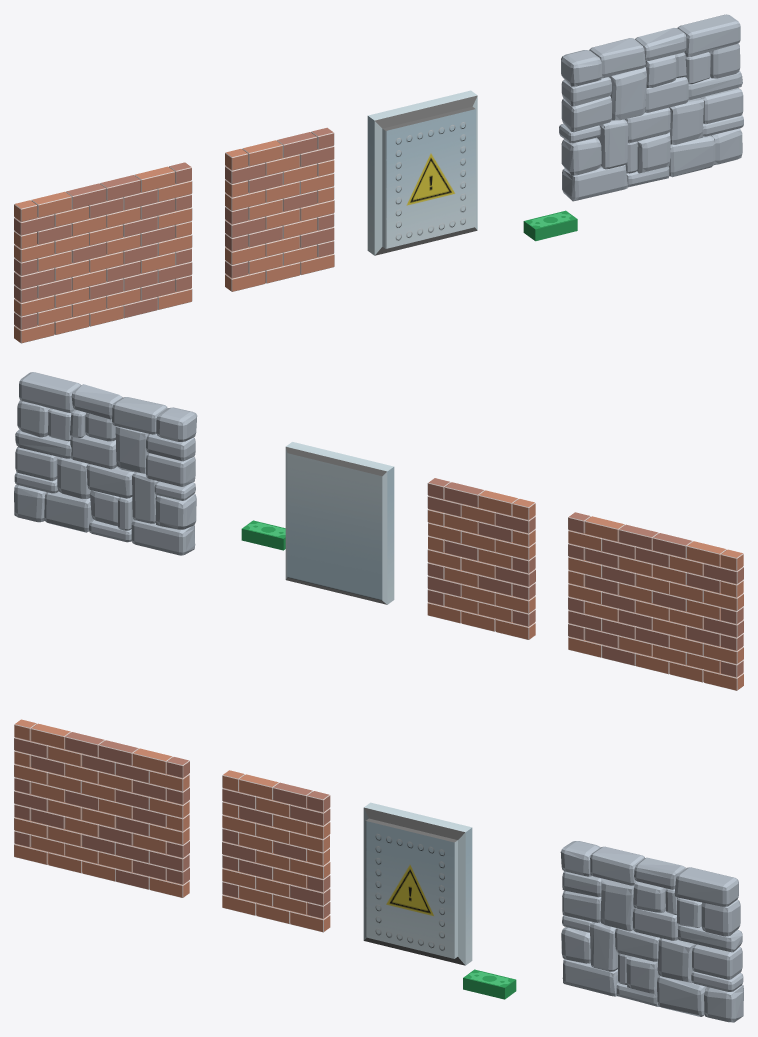
Rendered from WallsFBXFull1.fbx.
3 renders of one model, top to bottom at view 1: azimuth 30°, elevation 25°; view 2: azimuth 150°, elevation 25°; view 3: azimuth 330°, elevation 25°, orthographic.
Visible parts, largest first — view 1: MetalWall, Wall___Copy_pasted__pasted__pasted__pasted__pasted__pasted__ (×16), Wall___Copy11_pCube3, Wall___Copy1_pCube3, pasted__pasted__pCube1_3, Wall___Copy13_pCube3, Wall___Copy3_pCube3, pasted__pCube1_3, Wall___Copy19_pCube3, pasted__pCube1, Wall___Copy5_pCube3, pasted__pasted__pCube1_2 (+13 smaller); view 2: MetalWall, Wall___Copy_pasted__pasted__pasted__pasted__pasted__pasted__ (×16), Wall___Copy11_pCube3, Wall___Copy1_pCube3, Wall___Copy3_pCube3, Wall___Copy13_pCube3, Wall___Copy19_pCube3, pasted__pasted__pCube1_3, pasted__pCube1, Wall___Copy7_pCube3, Wall___Copy16_pCube3, pasted__pasted__pCube1_2 (+15 smaller); view 3: MetalWall, Wall___Copy_pasted__pasted__pasted__pasted__pasted__pasted__ (×16), Wall___Copy11_pCube3, pasted__pasted__pCube1_3, Wall___Copy3_pCube3, Wall___Copy13_pCube3, Wall___Copy10_pCube3, Wall___Copy1_pCube3, pasted__pCube1_3, pasted__pCube1_2, Wall___Copy5_pCube3, pasted__pasted__pCube1 (+14 smaller).
Part boxes in pixels (<box>): MetalWall: <box>367,90,477,255</box>; Wall___Copy_pasted__pasted__pasted__pasted__pasted__pasted__ (×16): <box>14,132,317,343</box>; Wall___Copy11_pCube3: <box>677,14,740,57</box>; Wall___Copy1_pCube3: <box>562,165,627,201</box>; pasted__pasted__pCube1_3: <box>609,67,646,120</box>; Wall___Copy13_pCube3: <box>589,38,645,78</box>; Wall___Copy3_pCube3: <box>669,135,715,177</box>; pasted__pCube1_3: <box>669,98,703,144</box>; Wall___Copy19_pCube3: <box>561,96,611,132</box>; pasted__pCube1: <box>561,137,601,175</box>; Wall___Copy5_pCube3: <box>597,119,628,169</box>; pasted__pasted__pCube1_2: <box>561,50,601,86</box>; MetalWall: <box>285,442,394,604</box>; Wall___Copy_pasted__pasted__pasted__pasted__pasted__pasted__ (×16): <box>444,482,743,690</box>; Wall___Copy11_pCube3: <box>19,372,81,412</box>; Wall___Copy1_pCube3: <box>131,519,195,555</box>; Wall___Copy3_pCube3: <box>44,491,92,532</box>; Wall___Copy13_pCube3: <box>112,397,167,434</box>; Wall___Copy19_pCube3: <box>146,453,195,486</box>; pasted__pasted__pCube1_3: <box>115,426,148,473</box>; pasted__pCube1: <box>155,493,196,529</box>; Wall___Copy7_pCube3: <box>86,463,134,498</box>; Wall___Copy16_pCube3: <box>70,435,116,469</box>; pasted__pasted__pCube1_2: <box>156,407,197,441</box>; MetalWall: <box>363,802,472,965</box>; Wall___Copy_pasted__pasted__pasted__pasted__pasted__pasted__ (×16): <box>31,723,330,932</box>; Wall___Copy11_pCube3: <box>674,867,738,906</box>; pasted__pasted__pCube1_3: <box>600,878,634,931</box>; Wall___Copy3_pCube3: <box>657,975,706,1016</box>; Wall___Copy13_pCube3: <box>590,846,644,885</box>; Wall___Copy10_pCube3: <box>692,944,742,979</box>; Wall___Copy1_pCube3: <box>562,959,618,996</box>; pasted__pCube1_3: <box>657,938,695,983</box>; pasted__pCube1_2: <box>704,984,743,1022</box>; Wall___Copy5_pCube3: <box>590,922,618,971</box>; pasted__pasted__pCube1: <box>701,899,740,936</box>.
Bounding box in the file's own units: 1699 × 326 × 186.
142 materials, 2 textured.
